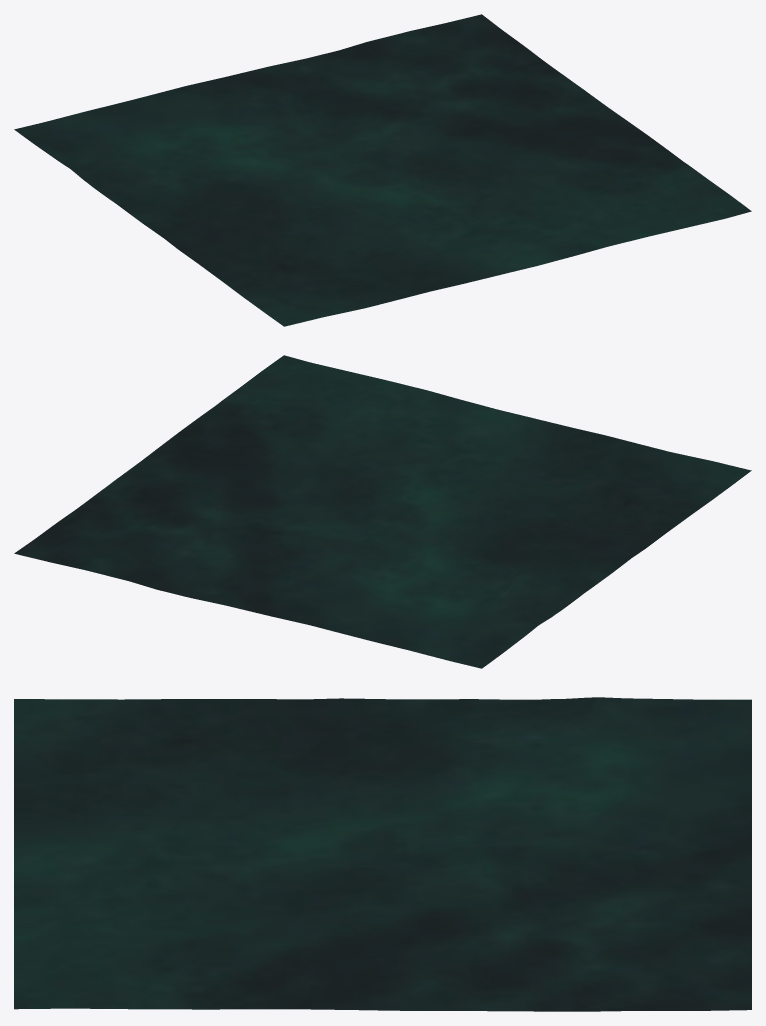
3 renders of one model, top to bottom at view 1: azimuth 30°, elevation 25°; view 2: azimuth 150°, elevation 25°; view 3: azimuth 270°, elevation 25°, orthographic. The views are drawn at different scales.
Bounding box in the file's own units: 52.22 × 0.5542 × 52.22.
2 materials, 2 textured.
